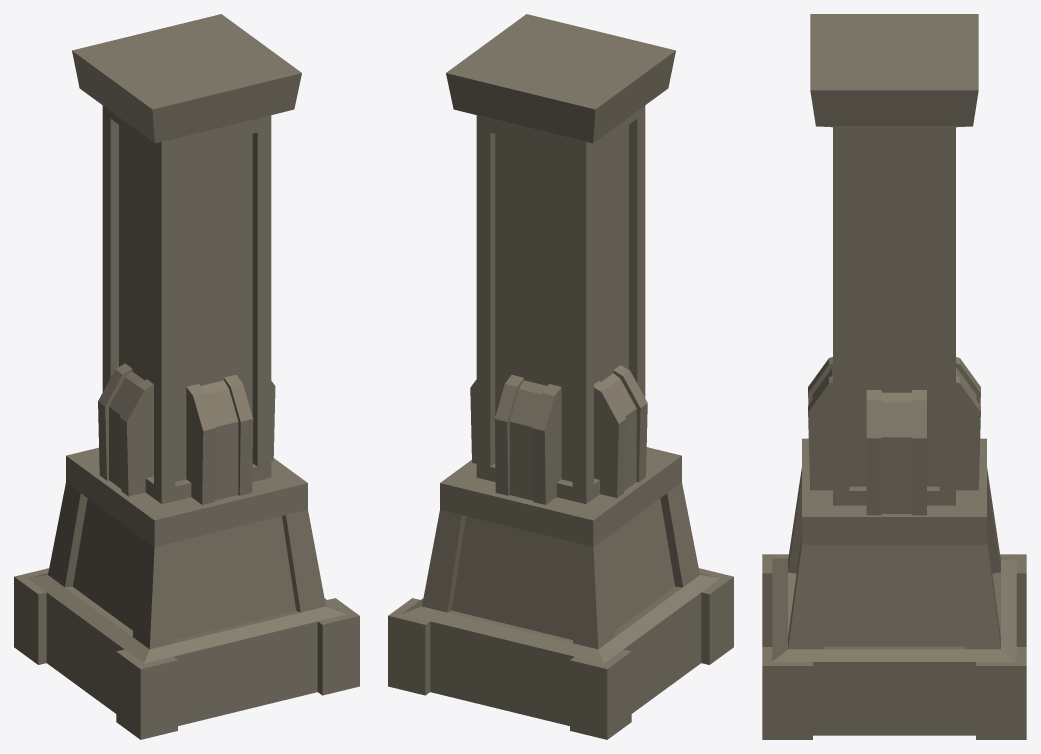
Rendered from TemplePillar_B.fbx.
3 renders of one model, left to right at view 1: azimuth 30°, elevation 25°; view 2: azimuth 150°, elevation 25°; view 3: azimuth 270°, elevation 25°, orthographic. The views are drawn at different scales.
Parts seen in each view (by area): view 1: TemplePillar_B; view 2: TemplePillar_B; view 3: TemplePillar_B.
Part boxes in pixels (x1,y1,x2,y2): TemplePillar_B: (14, 14, 359, 739); TemplePillar_B: (388, 14, 733, 739); TemplePillar_B: (762, 14, 1026, 739).
Size of the model in its own units: 260 by 685 by 260.
